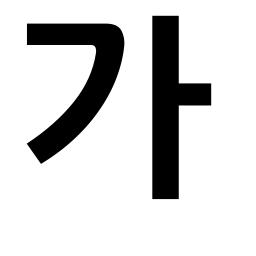Gaji: (140, 68, 196, 126)
